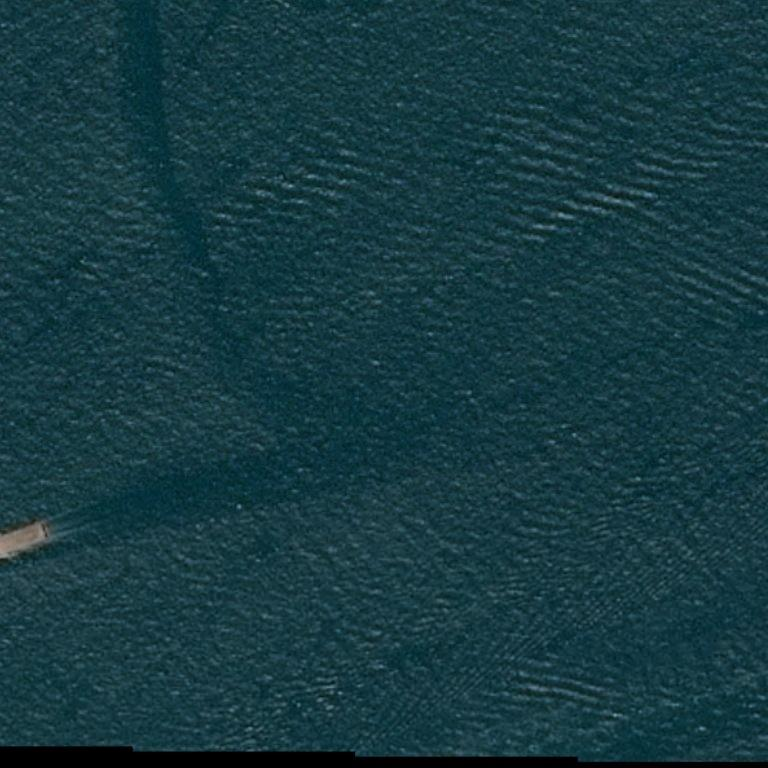ship: (0, 536, 56, 539)
